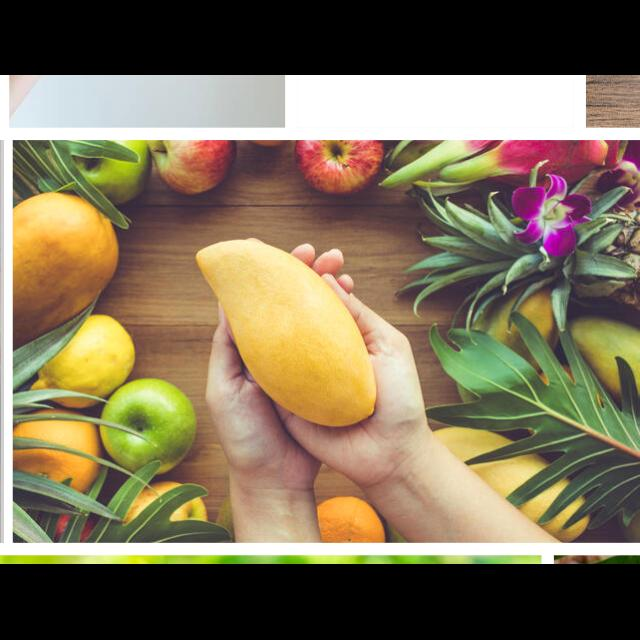mango: (195, 237, 378, 431)
